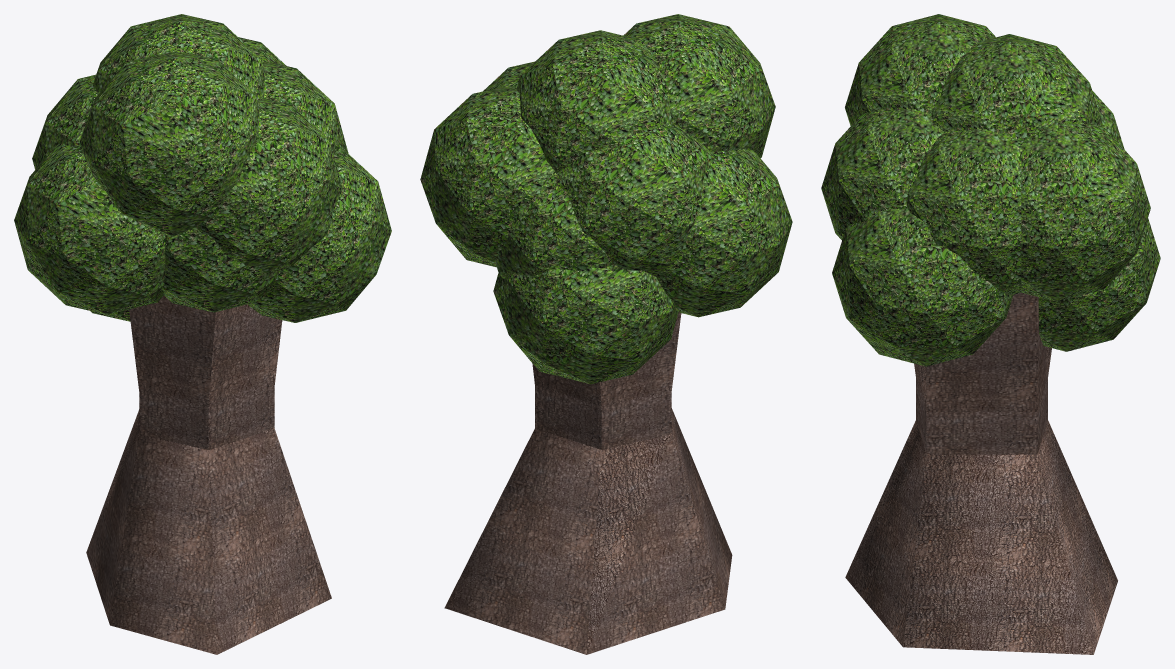
Rendered from Tree.obj.
The picture shows the model from 3 angles, left to right: view 1: azimuth 30°, elevation 25°; view 2: azimuth 150°, elevation 25°; view 3: azimuth 270°, elevation 25°; orthographic projection.
Parts seen in each view (by area): view 1: Cylinder, Sphere (7), Sphere (8), Sphere (2), Sphere (9), Sphere (5), Sphere (6), Sphere (1), Sphere (3); view 2: Cylinder, Sphere (10), Sphere (3), Sphere, Sphere (6), Sphere (8), Sphere (7), Sphere (4), Sphere (1); view 3: Cylinder, Sphere, Sphere (9), Sphere (1), Sphere (6), Sphere (2), Sphere (7), Sphere (10), Sphere (3).
Part boxes in pixels (x1=…): Cylinder: x1=86, y1=295, x2=331, y2=654; Sphere (7): x1=79, y1=51, x2=259, y2=236; Sphere (8): x1=14, y1=143, x2=165, y2=314; Sphere (2): x1=196, y1=98, x2=342, y2=273; Sphere (9): x1=248, y1=147, x2=391, y2=322; Sphere (5): x1=162, y1=227, x2=279, y2=312; Sphere (6): x1=93, y1=14, x2=264, y2=99; Sphere (1): x1=262, y1=61, x2=348, y2=153; Sphere (3): x1=32, y1=74, x2=97, y2=169; Cylinder: x1=444, y1=312, x2=732, y2=654; Sphere (10): x1=493, y1=267, x2=678, y2=384; Sphere (3): x1=556, y1=123, x2=714, y2=276; Sphere: x1=420, y1=86, x2=555, y2=267; Sphere (6): x1=516, y1=30, x2=672, y2=172; Sphere (8): x1=656, y1=149, x2=792, y2=317; Sphere (7): x1=623, y1=14, x2=775, y2=157; Sphere (4): x1=494, y1=172, x2=620, y2=278; Sphere (1): x1=483, y1=61, x2=534, y2=91; Cylinder: x1=845, y1=292, x2=1117, y2=654; Sphere: x1=1021, y1=122, x2=1150, y2=301; Sphere (9): x1=832, y1=208, x2=1013, y2=366; Sphere (1): x1=906, y1=129, x2=1021, y2=294; Sphere (6): x1=931, y1=34, x2=1103, y2=140; Sphere (2): x1=821, y1=109, x2=943, y2=239; Sphere (7): x1=845, y1=14, x2=995, y2=125; Sphere (10): x1=1038, y1=218, x2=1160, y2=351; Sphere (3): x1=1092, y1=91, x2=1124, y2=149.
Size of the model in its own units: 3.91 by 6.53 by 3.6.
2 materials, 2 textured.
